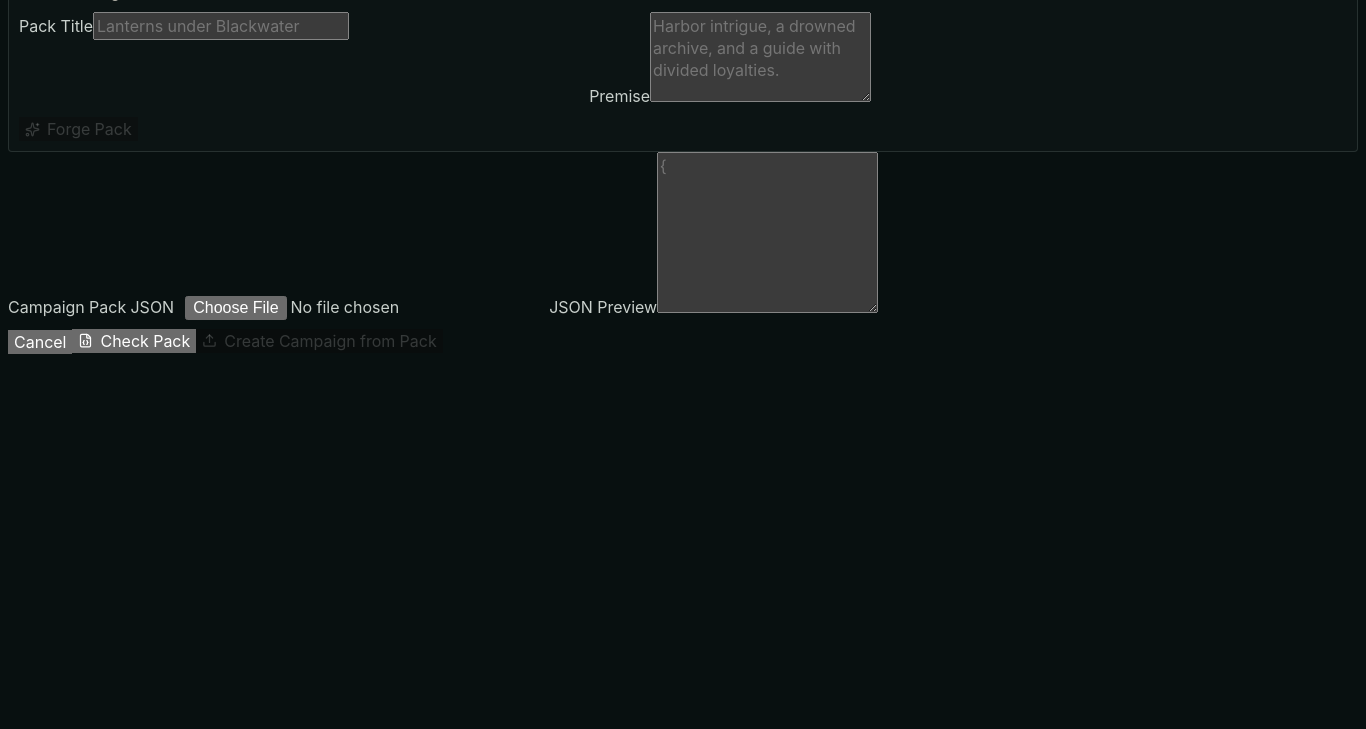
Test: CampaignPackImportDialog › forges a campaign pack and populates the import preview
This screenshot has width=1366, height=729.
Type "Lanterns Under Blackwater" into the field labelled "Pack Title".
click(221, 26); type("Lanterns Under Blackwater")  # box left=93, top=12, right=349, bottom=40
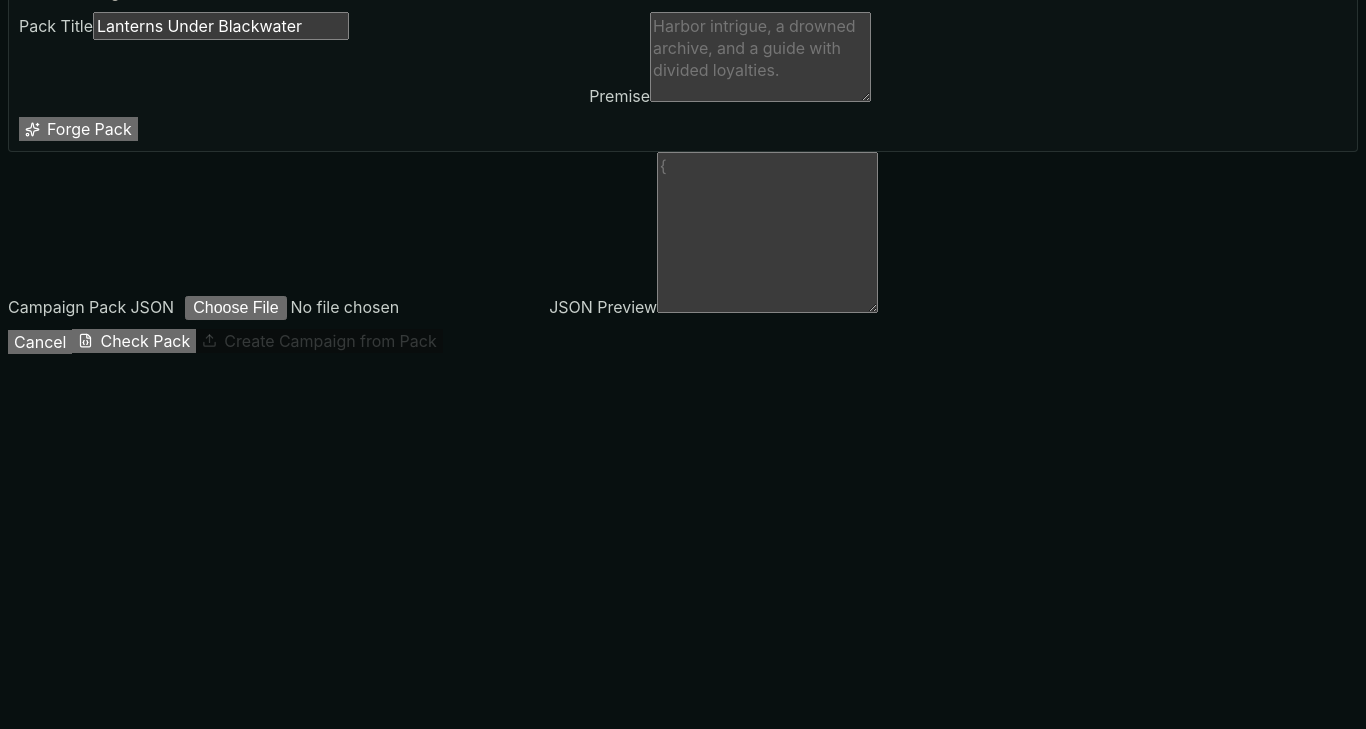
Replace the text in the text box labelled "Premise" with "Harbor intrigue and a drowned archive." at (761, 57), box left=650, top=12, right=871, bottom=102
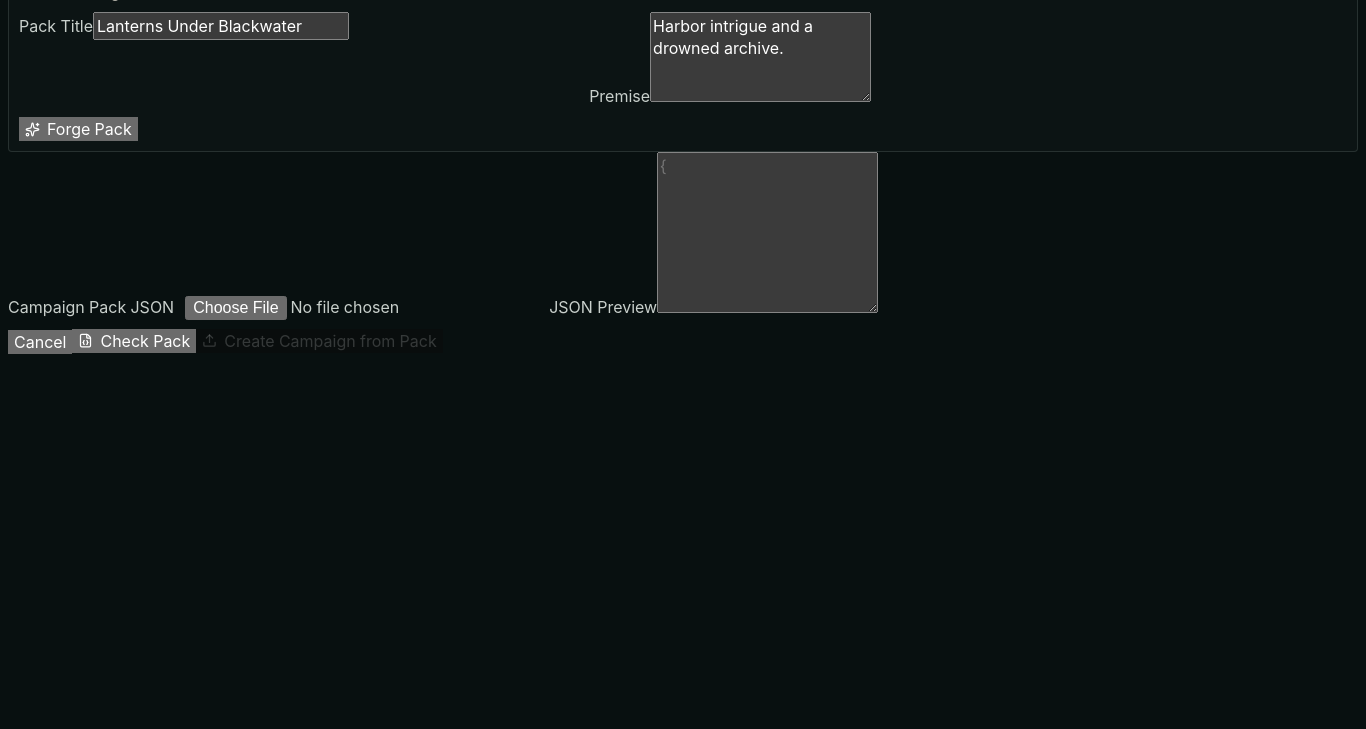
Click the button "Forge Pack".
click(78, 129)  # box left=19, top=117, right=138, bottom=141
(page scrolled)
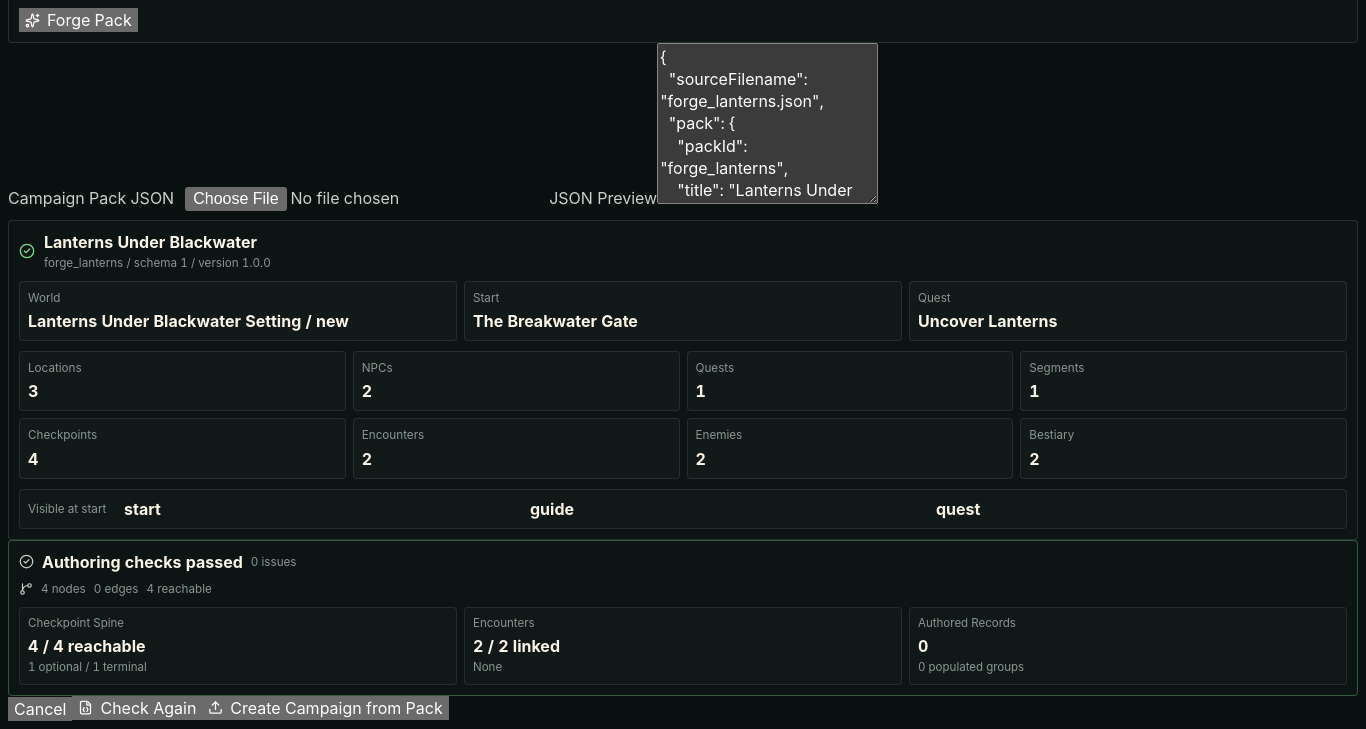
Check: the text "Lanterns Under Blackwater" is shown, box left=44, top=231, right=271, bottom=253
Check: the text "4 / 4 reachable" is shown, box left=28, top=636, right=146, bottom=656
